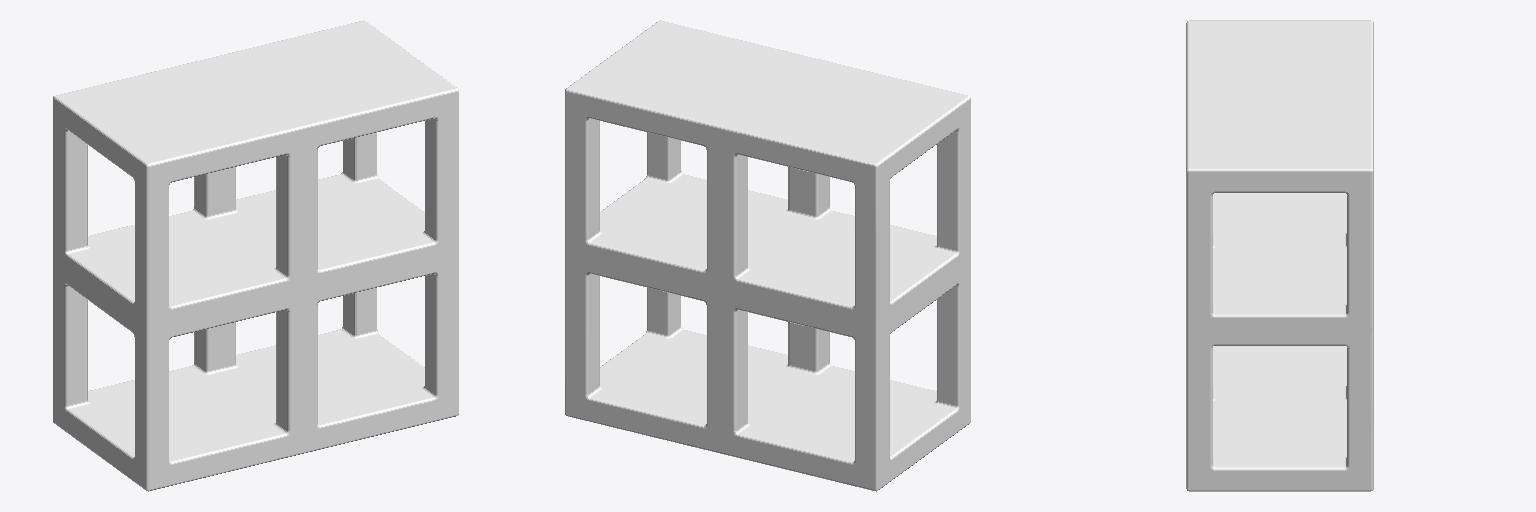
The robot description file, URDF, robot "shelves":
<robot name="shelves">
	<link name="_name">
		<visual>
			<origin xyz="-3.239722469987272e-05 -6.637812440253186e-05 0.0" rpy="0 0 0" />
			<geometry>
				<mesh filename="shelves/shelves.obj" scale="1.0 1.0 1.0" />
			</geometry>
			<material name="texture">
				<color rgba="1.0 1.0 1.0 1.0" />
			</material>
		</visual>
		<collision>
			<geometry>
				<mesh filename="shelves/shelves_vhacd.obj" scale="1.0 1.0 1.0" />
			</geometry>
		<origin xyz="-3.239722469987272e-05 -6.637812440253186e-05 0.0" rpy="0 0 0" /></collision>
		<inertial>
			<mass value="1.0" />
			<inertia ixx="1.0" ixy="0.0" ixz="0.0" iyy="1.0" iyz="0.0" izz="1.0" />
		</inertial>
	</link>
</robot>

--- Render facts (derived) ---
Views: 3 orthographic renders of the robot side by side, from view 1: azimuth 30°, elevation 25°; view 2: azimuth 150°, elevation 25°; view 3: azimuth 270°, elevation 25°.
Robot: shelves — 1 links, 0 joints (none); root link _name; default pose: all joints at 0.
Visible links, largest first — view 1: _name; view 2: _name; view 3: _name.
Link boxes in pixels (left/top/right/bottom): _name: left=53, top=20, right=458, bottom=491; _name: left=565, top=20, right=970, bottom=491; _name: left=1186, top=20, right=1373, bottom=491.
Bounding box of the posed robot: 1.9 × 1 × 1.9 m (x, y, z).
1 mesh visuals loaded from 1 distinct referenced files (1 OBJ).